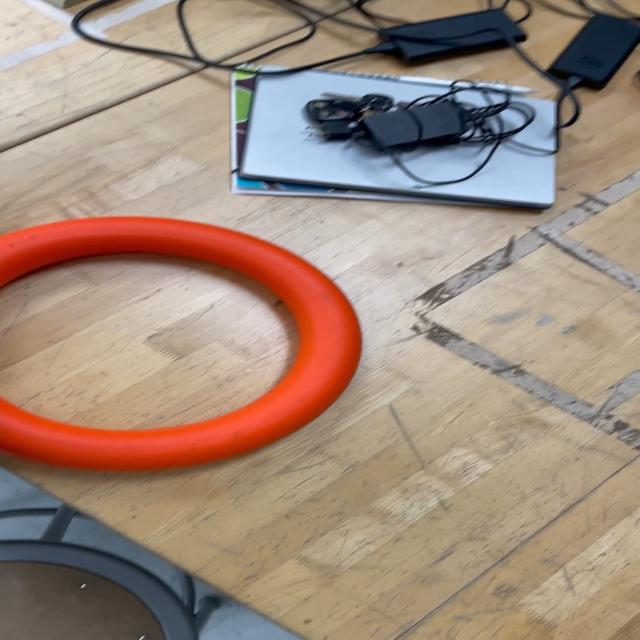note: (0, 215, 366, 473)
